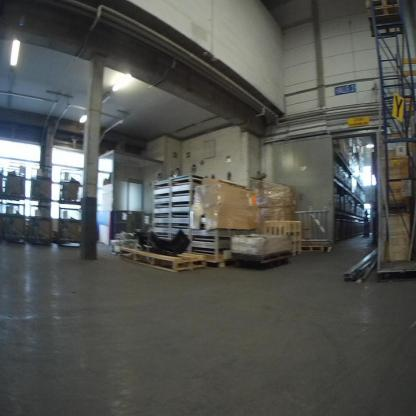pallet: (119, 244, 206, 272), (369, 5, 404, 40), (301, 240, 332, 260)
stillage: (57, 205, 86, 249), (59, 167, 88, 208), (27, 201, 53, 246), (2, 201, 27, 244), (29, 162, 53, 201), (6, 161, 27, 201)
